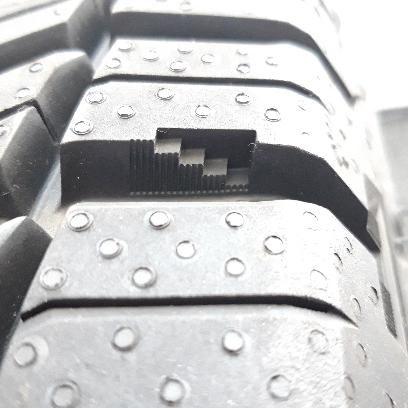temoin:100: (125, 124, 261, 197)
